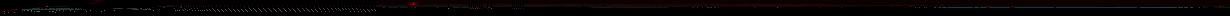Blue cone: (45, 6, 50, 7)
Yellow cone: (408, 2, 420, 6), (907, 5, 915, 7), (1217, 6, 1224, 8), (1010, 6, 1016, 8), (986, 6, 991, 8)
